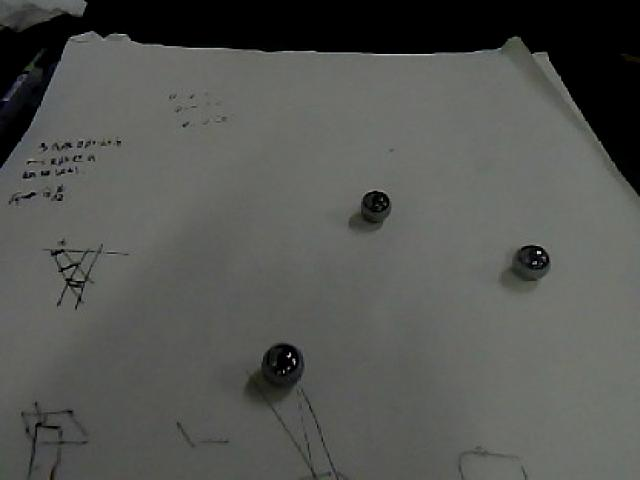steel-ball: (244, 322, 318, 408), (489, 220, 568, 297), (331, 172, 400, 238)
